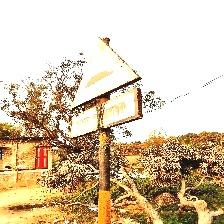Speed-breaker: (67, 38, 143, 138)
